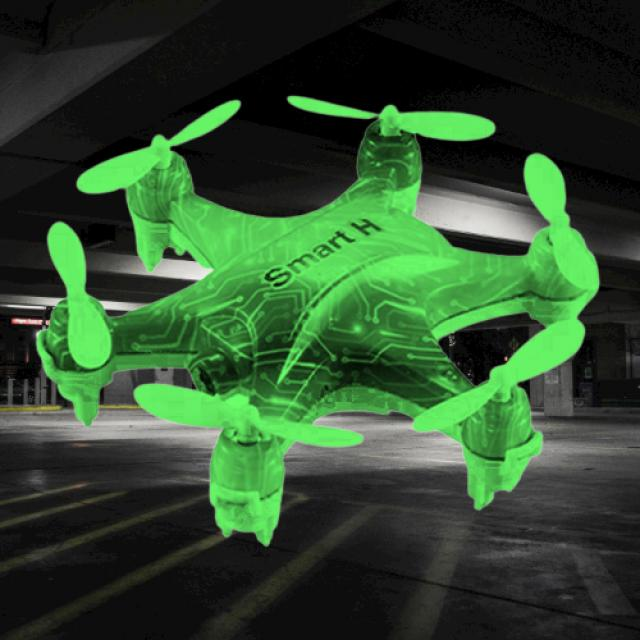drones: (36, 94, 595, 556)
